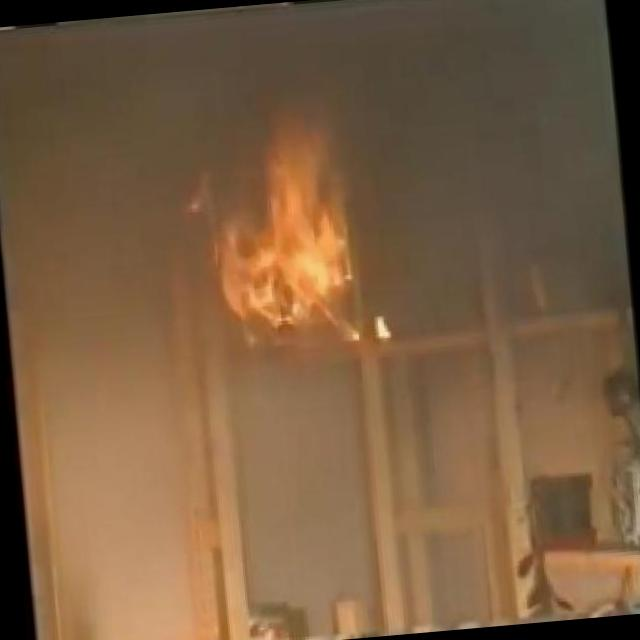fire: (183, 116, 392, 354)
